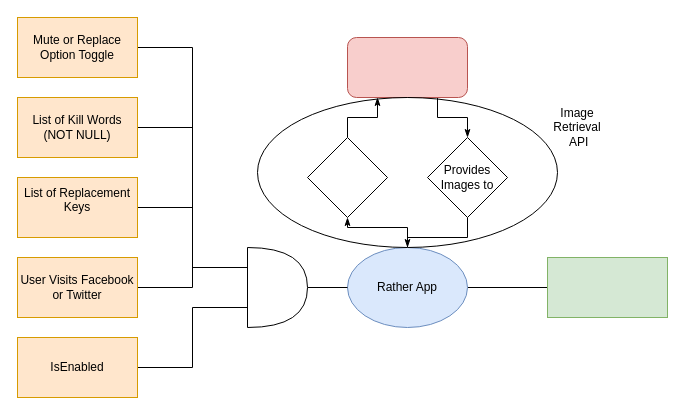
The diagram is 685 pixels wide and 415 high, and some of its shapes have lost their labels. The shapes that lost their labels are listed below. From the top down, each one's centre as x and y in pixels, then its label:
point (407, 67): Image Source
point (347, 177): Queries
point (277, 287): AND
point (607, 287): Edited Post Content
